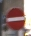No entry: (5, 6, 26, 31)
